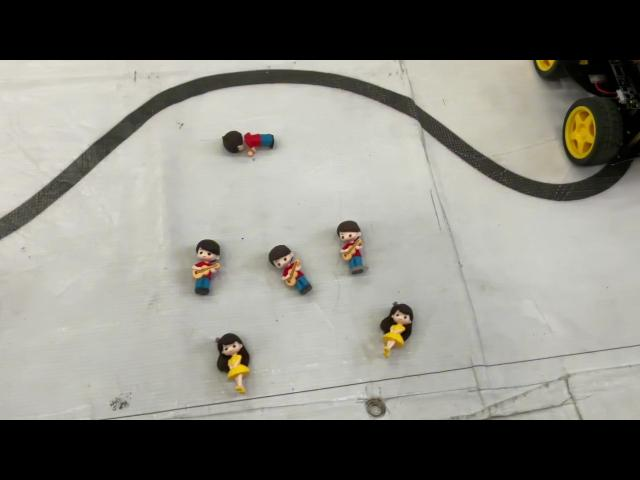man: (266, 240, 314, 298), (333, 221, 373, 276), (190, 236, 222, 300), (222, 126, 276, 160)
woman: (212, 330, 258, 396), (376, 297, 416, 361)
